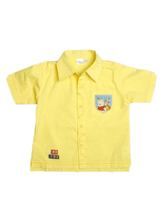clothoes: (6, 47, 157, 175)
